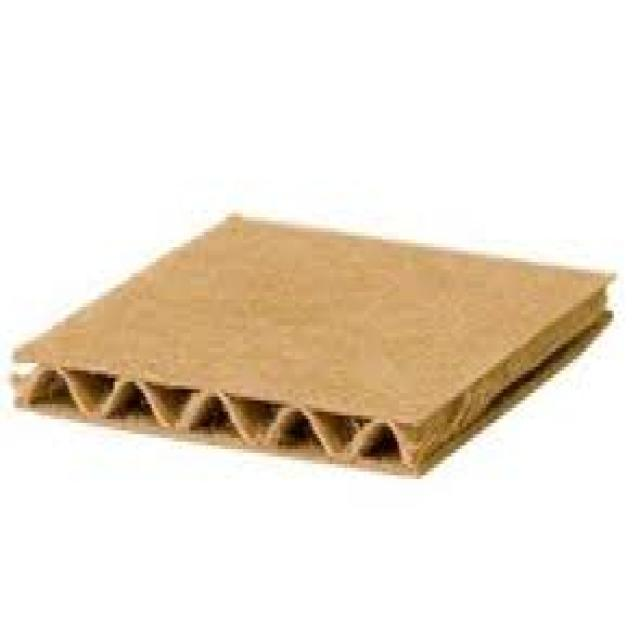Cardboard: (12, 217, 613, 479)
